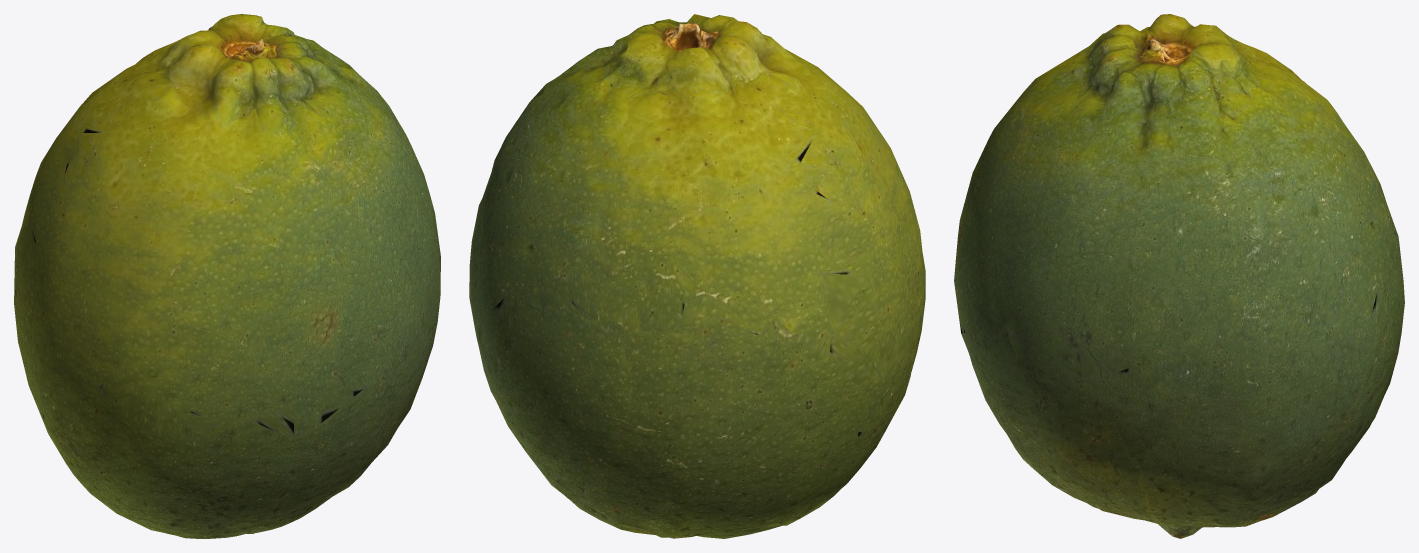
File: food_lime_01.fbx
3 renders of one model, left to right at view 1: azimuth 30°, elevation 25°; view 2: azimuth 150°, elevation 25°; view 3: azimuth 270°, elevation 25°, orthographic.
Parts seen in each view (by area): view 1: food_lime_01_LOD0; view 2: food_lime_01_LOD0; view 3: food_lime_01_LOD0.
Part boxes in pixels (x1,y1,x2,y2): food_lime_01_LOD0: (14, 14, 440, 538); food_lime_01_LOD0: (469, 14, 925, 538); food_lime_01_LOD0: (954, 14, 1404, 538).
Size of what is drawn, in the model's own units: 6.01 by 7.54 by 6.14.
Materials: 1 (1 with a texture image).
